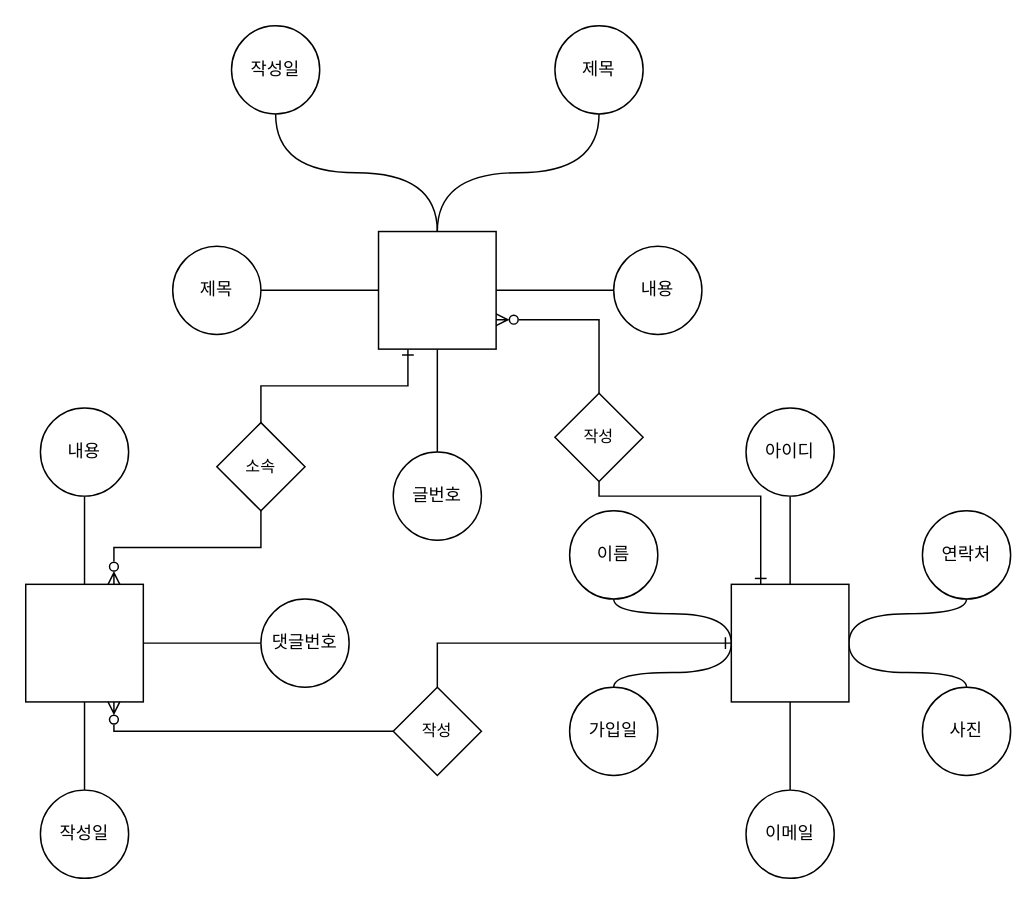
Image size: 1036x904. Some labels were removed from this diagram. The centre of each missing label's shape, as x and y in pixels:
"게시글" belongs at (x=436, y=289).
"댓글" belongs at (x=83, y=642).
"작성자" belongs at (x=789, y=642).
